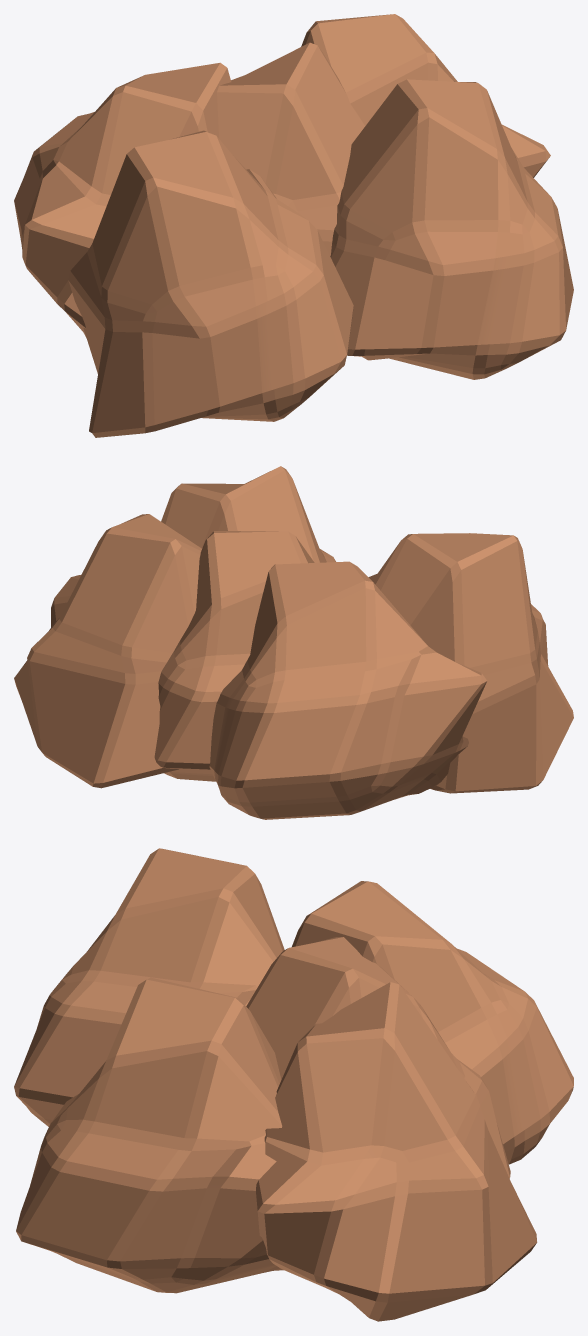
File: TheRock.fbx
3 views of the same model, one above another, from view 1: azimuth 30°, elevation 25°; view 2: azimuth 150°, elevation 25°; view 3: azimuth 270°, elevation 25° (orthographic). The views are drawn at different scales.
Parts seen in each view (by area): view 1: rockD_5, rockD_2, rockD_4, rockD_7, rockD; view 2: rockD_4, rockD, rockD_5, rockD_7, rockD_2; view 3: rockD, rockD_2, rockD_5, rockD_4, rockD_7.
Boxes of the visible parts, bbox=[...] form: rockD_5: bbox=[68, 130, 353, 437]; rockD_2: bbox=[330, 79, 573, 379]; rockD_4: bbox=[14, 62, 231, 337]; rockD_7: bbox=[217, 42, 364, 255]; rockD: bbox=[301, 14, 550, 177]; rockD_4: bbox=[209, 561, 486, 819]; rockD: bbox=[14, 514, 201, 788]; rockD_5: bbox=[368, 533, 573, 793]; rockD_7: bbox=[154, 531, 314, 781]; rockD_2: bbox=[161, 466, 335, 562]; rockD: bbox=[256, 982, 537, 1321]; rockD_2: bbox=[16, 977, 283, 1293]; rockD_5: bbox=[14, 848, 284, 1126]; rockD_4: bbox=[292, 881, 573, 1164]; rockD_7: bbox=[246, 937, 510, 1178].
Bounding box in the file's own units: 1364 × 700 × 1226.
